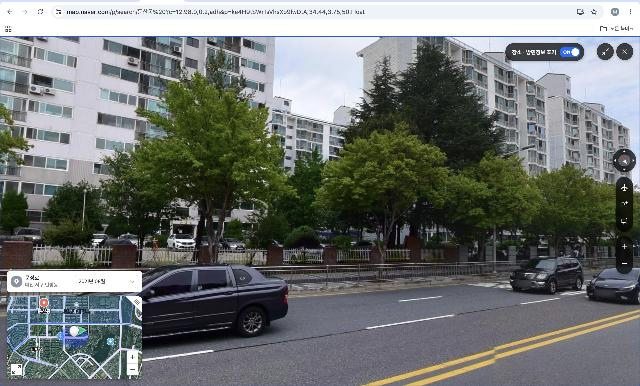other: (96, 49, 302, 265), (338, 42, 507, 251), (316, 121, 461, 280), (437, 149, 550, 263), (527, 161, 606, 260), (264, 145, 333, 248), (45, 178, 107, 250), (0, 188, 31, 236)
